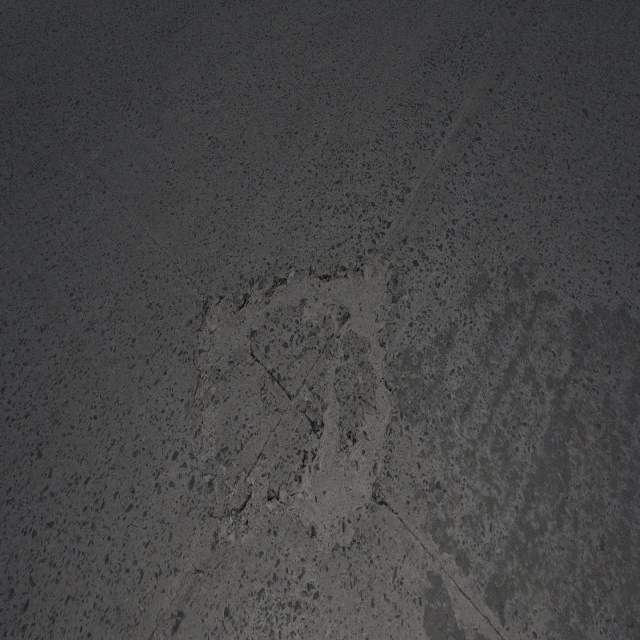pothole: (190, 251, 392, 561)
